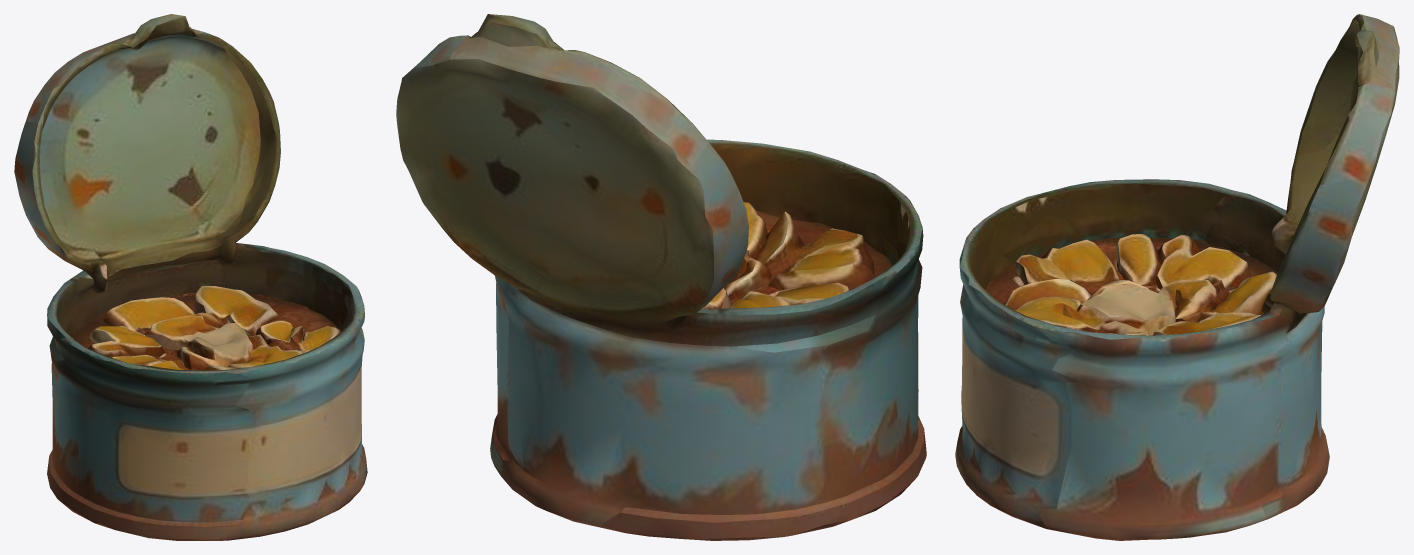
File: seedtin.glb
3 renders of one model, left to right at view 1: azimuth 30°, elevation 25°; view 2: azimuth 150°, elevation 25°; view 3: azimuth 270°, elevation 25°, orthographic. The views are drawn at different scales.
Parts seen in each view (by area): view 1: item_seedtin; view 2: item_seedtin; view 3: item_seedtin.
Boxes of the visible parts, x1,y1,x2,y2 form: item_seedtin: (14, 14, 367, 540); item_seedtin: (396, 14, 926, 540); item_seedtin: (955, 14, 1399, 540).
Bounding box in the file's own units: 0.7788 × 1 × 0.8898.
1 material, 1 textured.
